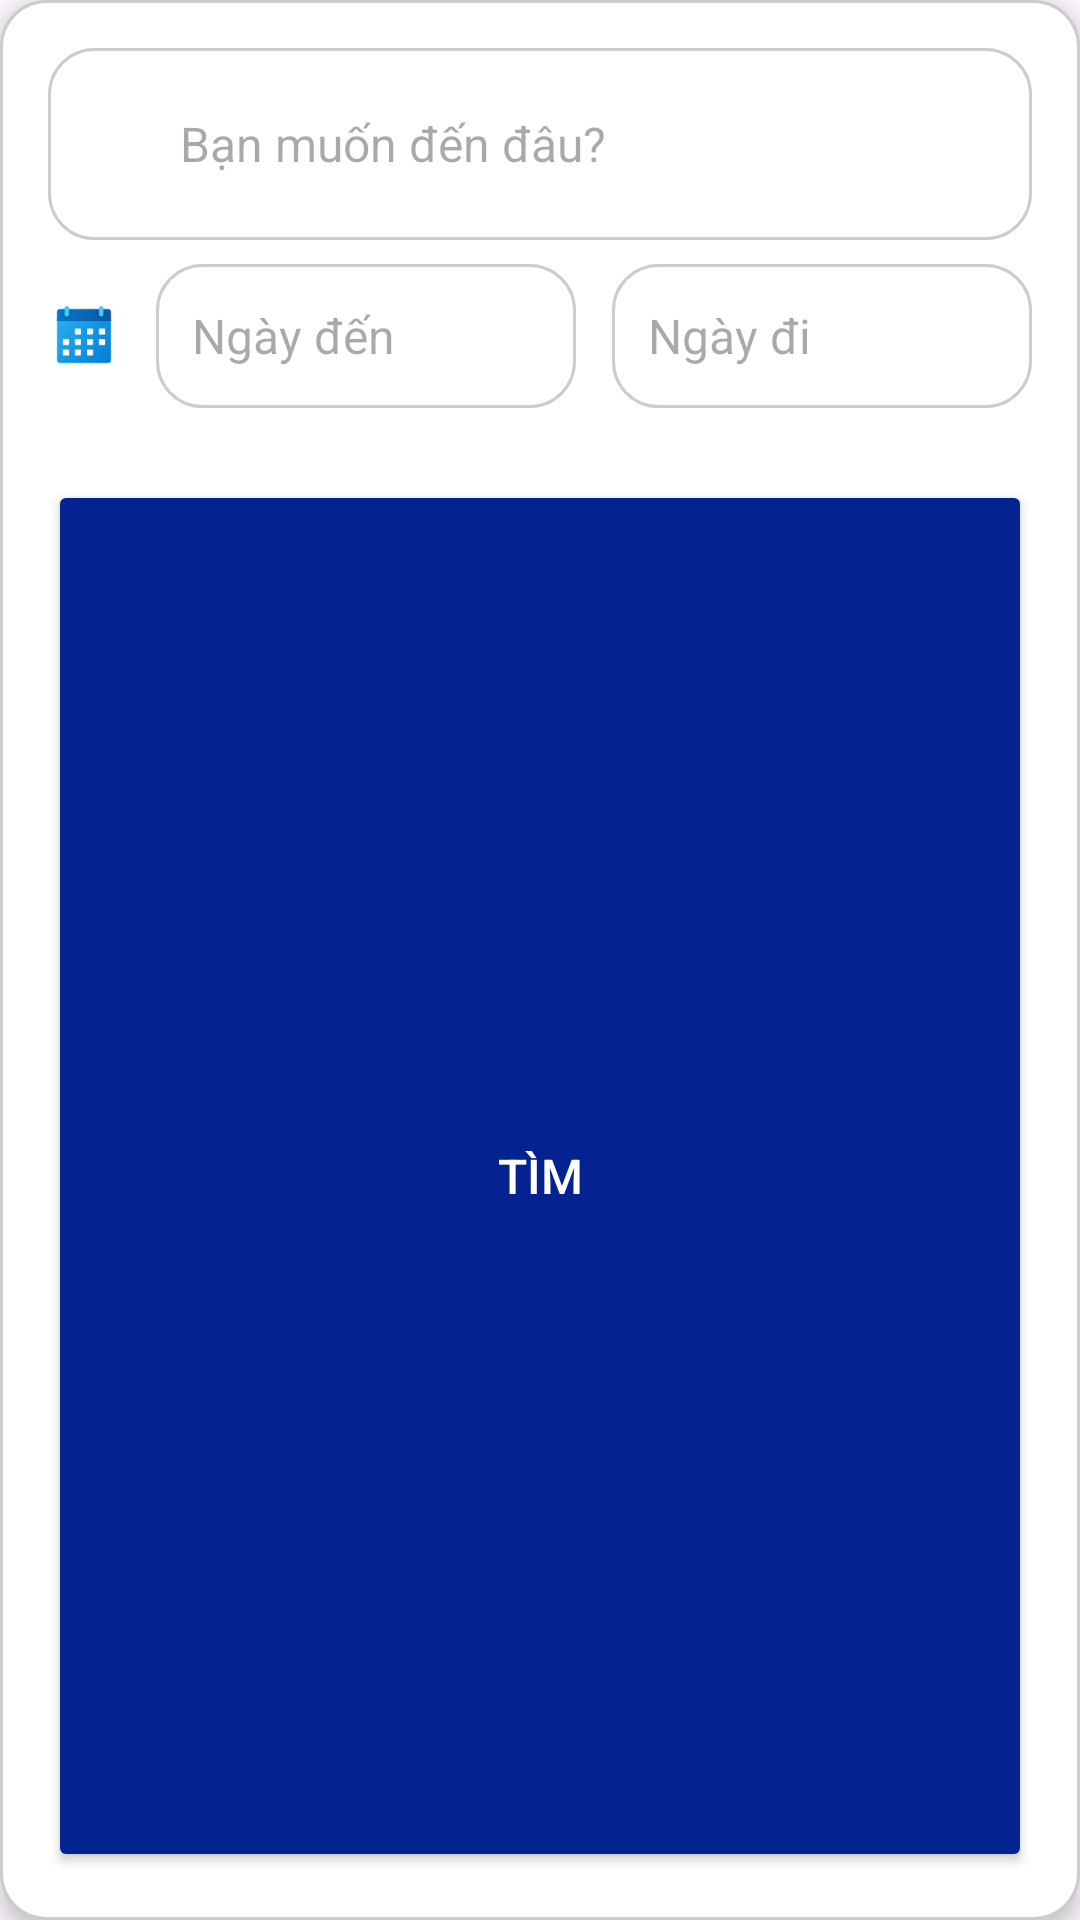

Icons on this 1080px×1920px Android screen, each with its box as (x1, y1, x2, y2):
calendar: (56, 306, 112, 364)
